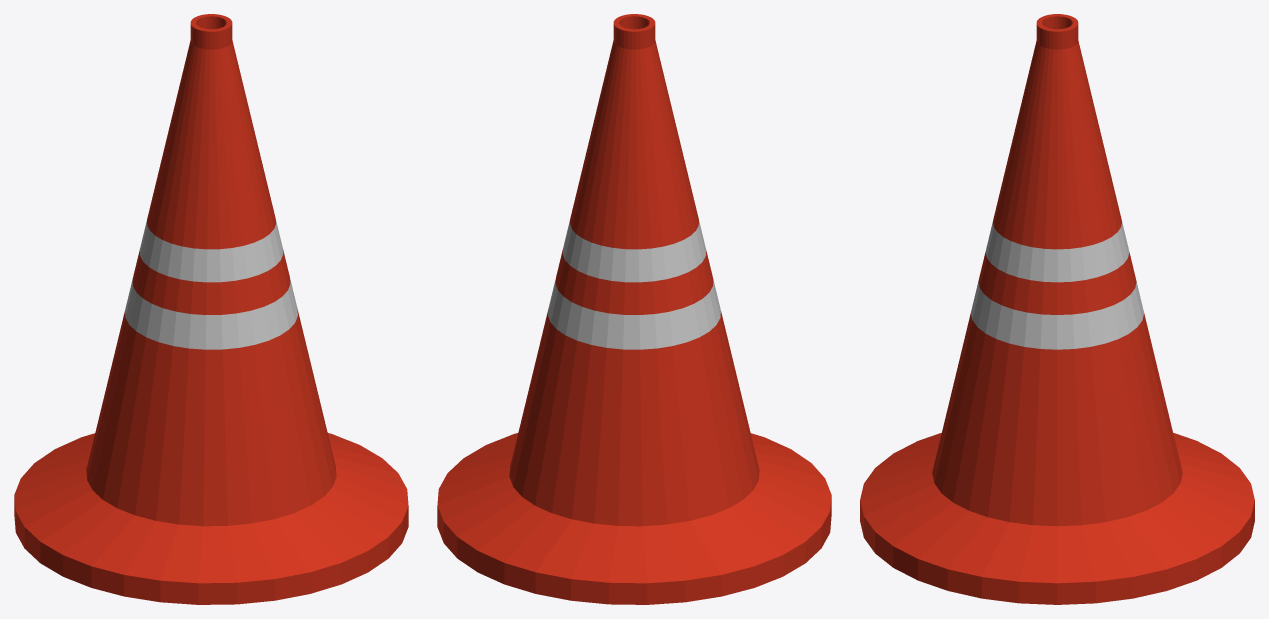
Rendered from cono.dae.
3 views of the same model, side by side, from view 1: azimuth 30°, elevation 25°; view 2: azimuth 150°, elevation 25°; view 3: azimuth 270°, elevation 25° (orthographic).
Parts seen in each view (by area): view 1: Cylinder_001; view 2: Cylinder_001; view 3: Cylinder_001.
Boxes of the visible parts, left/top/right/bottom form: Cylinder_001: left=14, top=14, right=408, bottom=604; Cylinder_001: left=437, top=14, right=831, bottom=604; Cylinder_001: left=860, top=14, right=1254, bottom=604.
Bounding box in the file's own units: 7.66 × 7.66 × 10.68.
